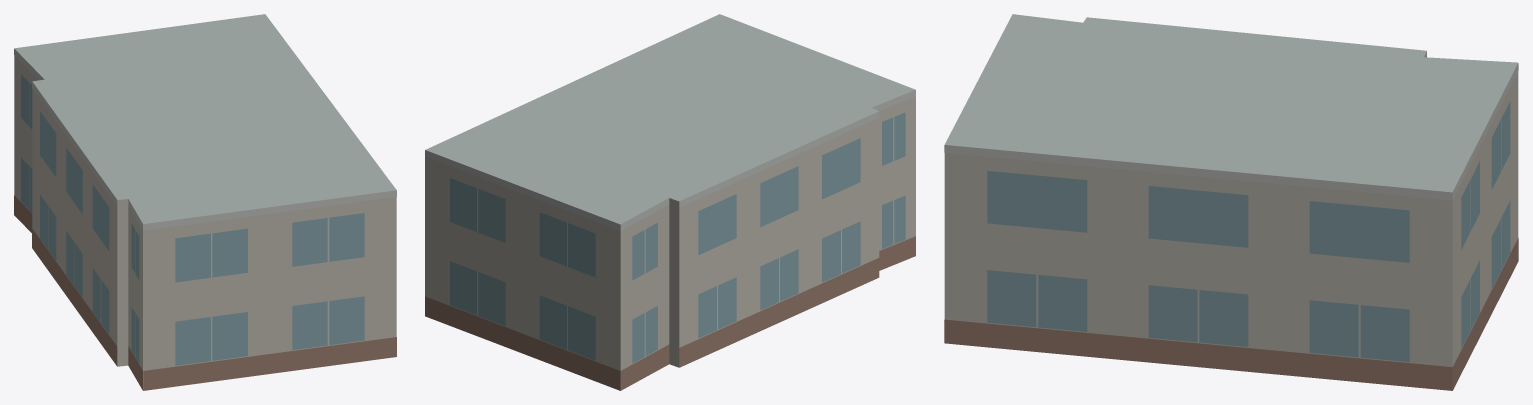
File: survey-upis-32923283.glb
3 renders of one model, left to right at view 1: azimuth 30°, elevation 25°; view 2: azimuth 150°, elevation 25°; view 3: azimuth 270°, elevation 25°, orthographic. The views are drawn at different scales.
Parts seen in each view (by area): view 1: survey-upis-32923283.tmp; view 2: survey-upis-32923283.tmp; view 3: survey-upis-32923283.tmp.
Boxes of the visible parts, x1,y1,x2,y2 form: survey-upis-32923283.tmp: [14, 14, 396, 390]; survey-upis-32923283.tmp: [425, 14, 915, 390]; survey-upis-32923283.tmp: [944, 14, 1518, 390].
Size of the model in its own units: 11.77 by 6.1 by 16.
